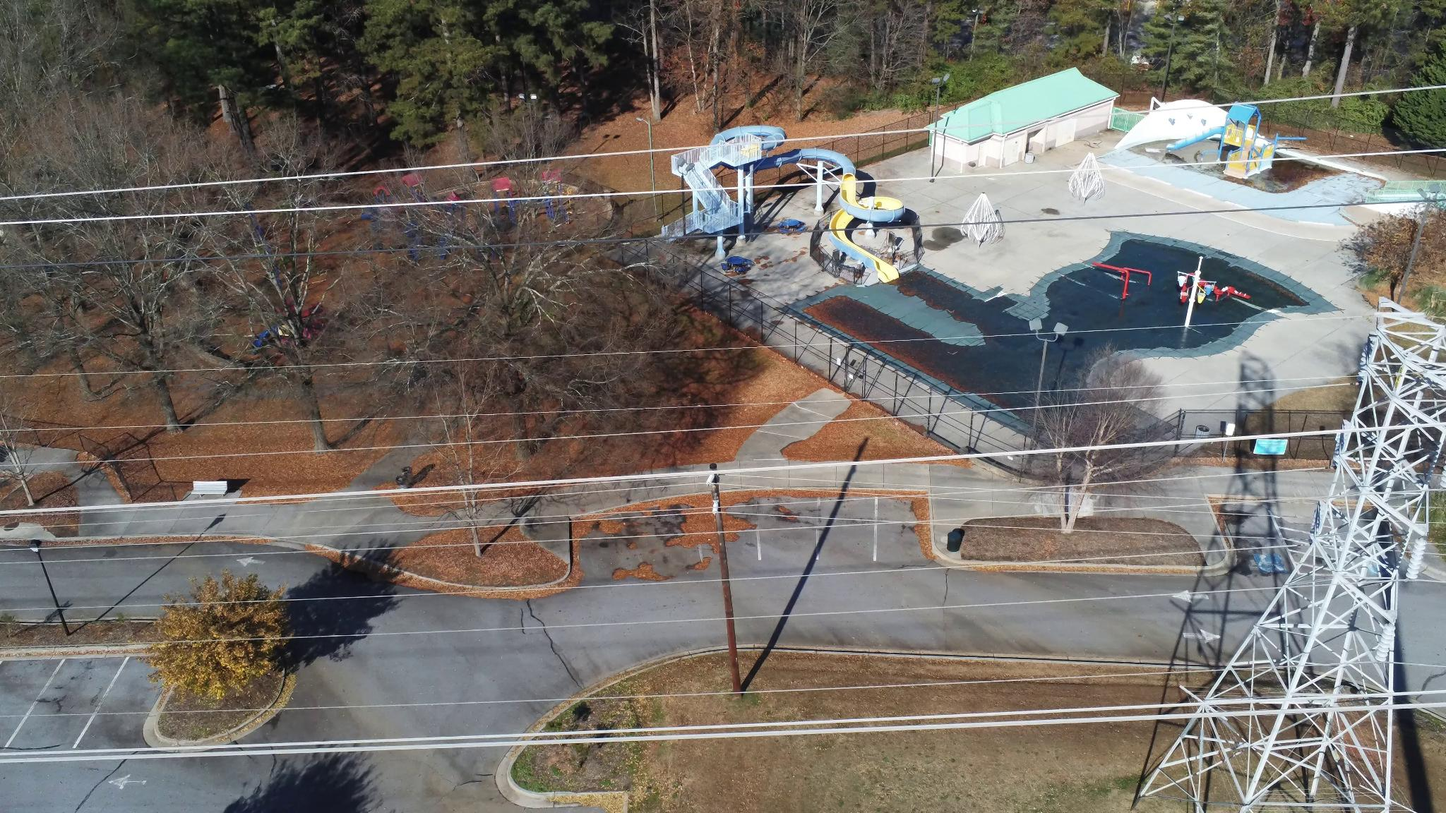tower: (1142, 293, 1446, 813)
